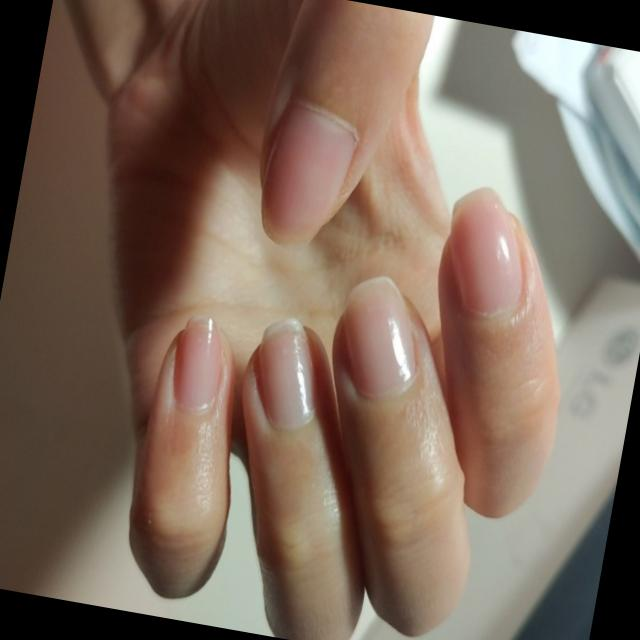Nail: (261, 100, 357, 245), (340, 275, 415, 400), (449, 187, 522, 312), (257, 318, 315, 434), (172, 315, 221, 412)
